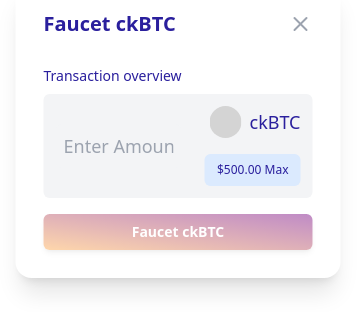
Test: FaucetPopup Component › sets maximum amount when max button is clicked
Click the text "$500.00 Max". click: click(253, 170)
box: [205,154,300,186]
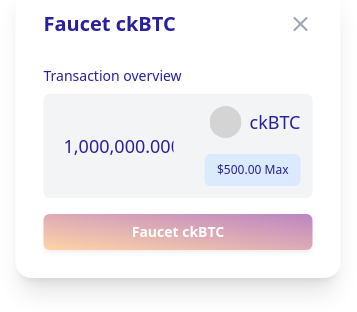
Expected: the field with placeholder "Enter Amount" is not empty, [56,124,182,168]
